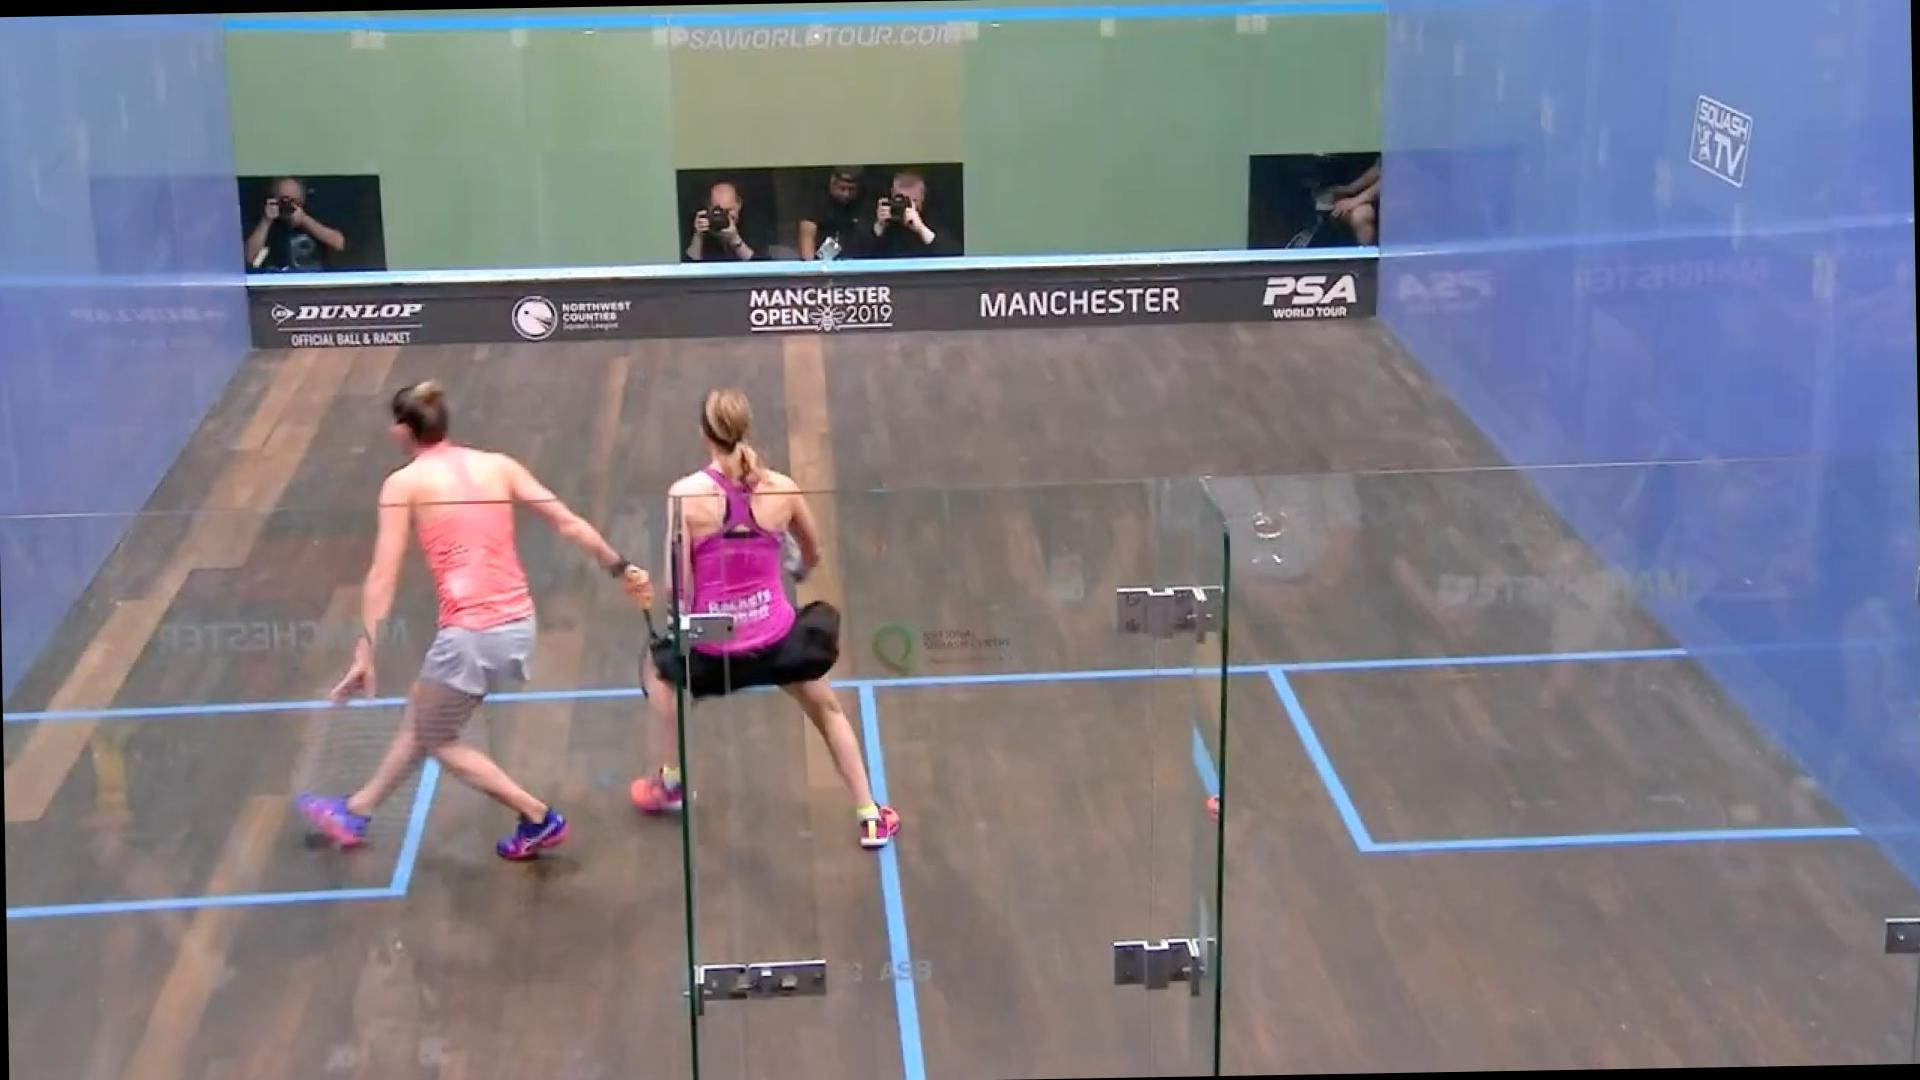Squash-Ball: (237, 244, 293, 277)
